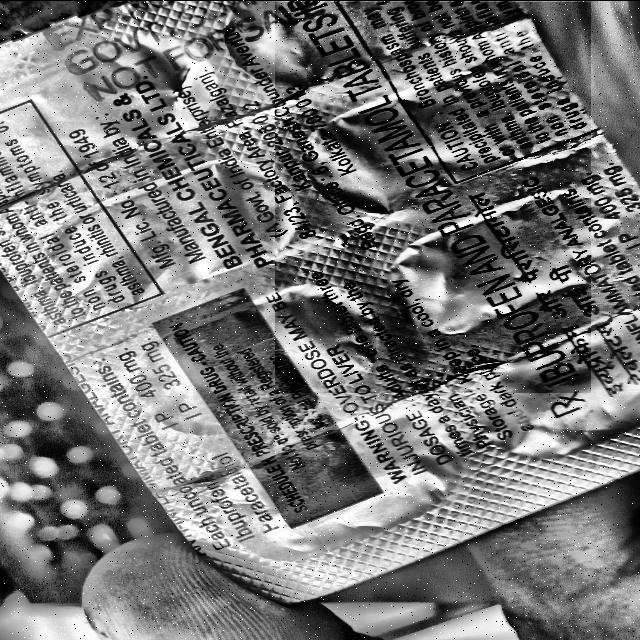IBUPROFEN AND PARACETAMOL TABLETS: (276, 1, 590, 392)
